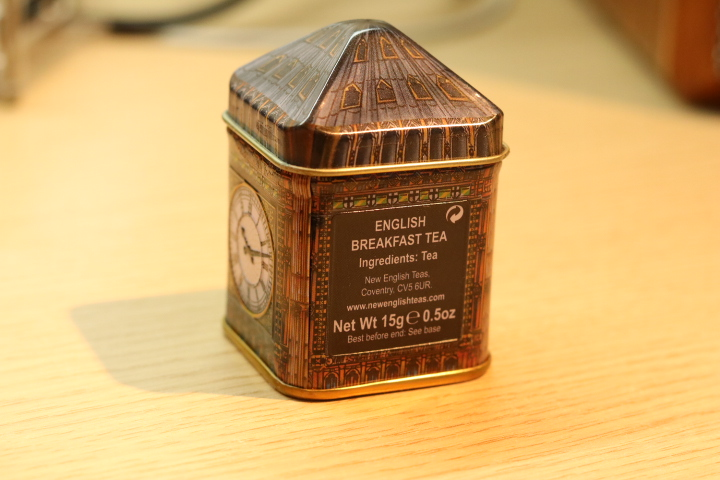Big Ben: (204, 5, 516, 411)
